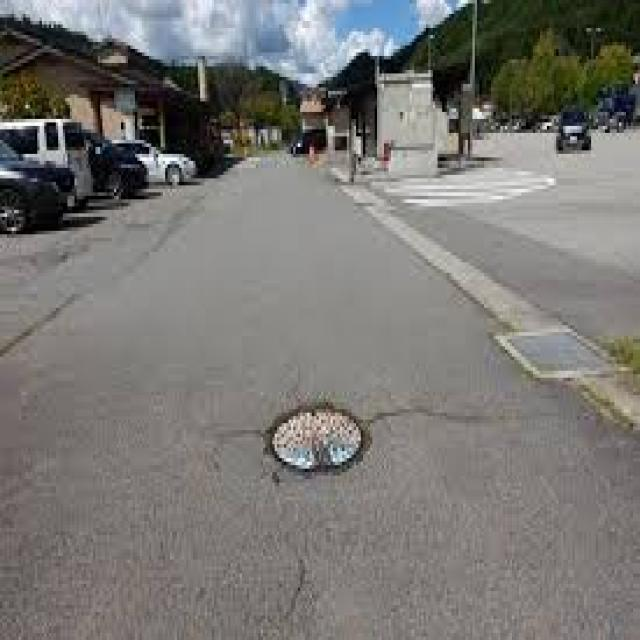manhole: (266, 403, 368, 473)
